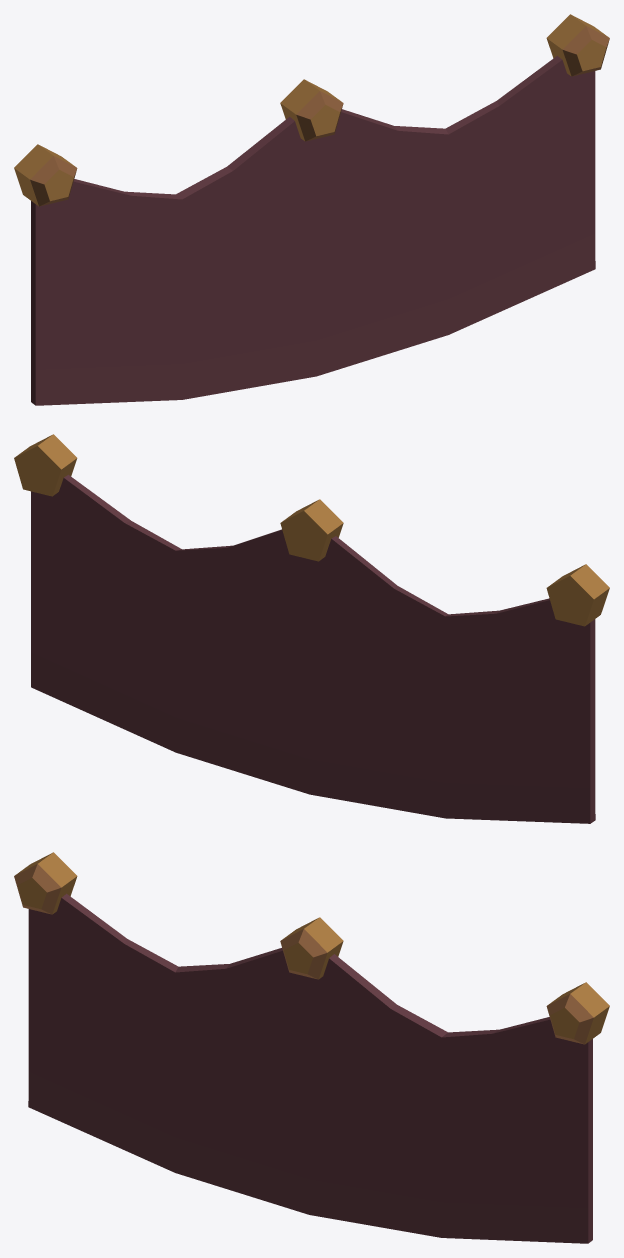
Rendered from SM_Banner_Arc_Square_Big_Empire.fbx.
The picture shows the model from 3 angles, top to bottom: view 1: azimuth 30°, elevation 25°; view 2: azimuth 150°, elevation 25°; view 3: azimuth 330°, elevation 25°; orthographic projection.
Parts seen in each view (by area): view 1: SM_Banner_Arc_Square_Big_Empire; view 2: SM_Banner_Arc_Square_Big_Empire; view 3: SM_Banner_Arc_Square_Big_Empire.
Boxes of the visible parts, <box> form: SM_Banner_Arc_Square_Big_Empire: <box>14,14,609,405</box>; SM_Banner_Arc_Square_Big_Empire: <box>14,434,609,823</box>; SM_Banner_Arc_Square_Big_Empire: <box>14,852,609,1243</box>.
Size of the model in its own units: 2.17 by 1.03 by 0.1393.
